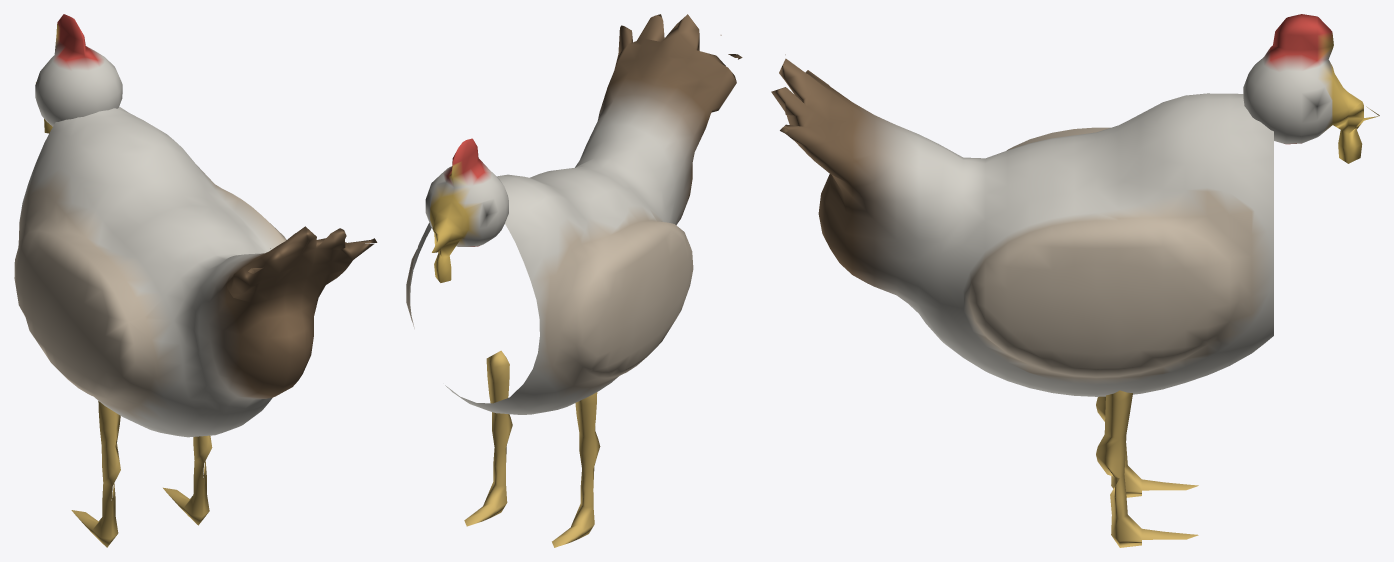
Rendered from animal_chicken.glb.
3 views of the same model, side by side, from view 1: azimuth 30°, elevation 25°; view 2: azimuth 150°, elevation 25°; view 3: azimuth 270°, elevation 25° (orthographic). The views are drawn at different scales.
Parts seen in each view (by area): view 1: Body, Head, Leg_L, Leg_R; view 2: Body, Head, Leg_R, Leg_L; view 3: Body, Head, Leg_R, Leg_L.
Part boxes in pixels (x1,y1,x2,y2): Body: (14, 106, 377, 437); Head: (35, 14, 122, 133); Leg_L: (71, 401, 120, 547); Leg_R: (163, 435, 212, 525); Body: (406, 14, 742, 414); Head: (425, 138, 508, 282); Leg_R: (464, 350, 512, 526); Leg_L: (552, 392, 600, 547); Body: (771, 54, 1273, 396); Head: (1243, 14, 1379, 163); Leg_R: (1096, 390, 1198, 547); Leg_L: (1096, 396, 1198, 497).
Size of the model in its own units: 0.2335 by 0.4813 by 0.5214.
